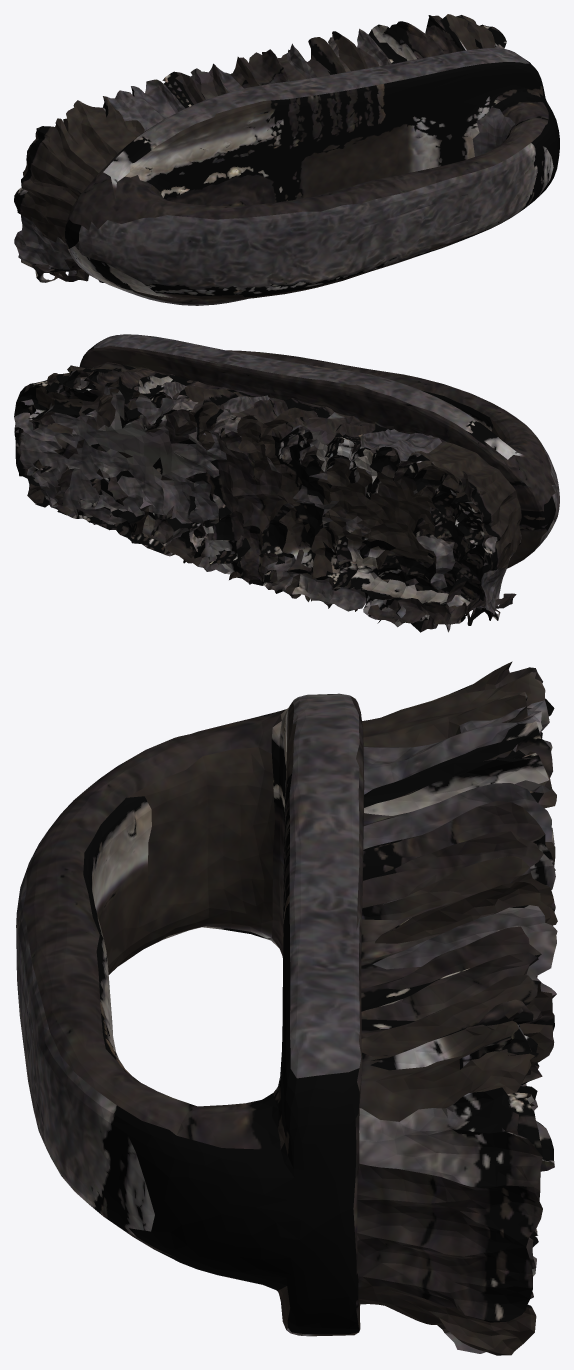
Rendered from anvil_eraser.obj.
3 views of the same model, one above another, from view 1: azimuth 30°, elevation 25°; view 2: azimuth 150°, elevation 25°; view 3: azimuth 270°, elevation 25° (orthographic). The views are drawn at different scales.
Parts seen in each view (by area): view 1: geometry_0; view 2: geometry_0; view 3: geometry_0.
Boxes of the visible parts, box(x1,y1,x2,y2) form: geometry_0: box(14, 14, 559, 305); geometry_0: box(14, 334, 559, 632); geometry_0: box(16, 661, 557, 1355).
Size of the model in its own units: 0.1694 by 0.0667 by 0.0824.
